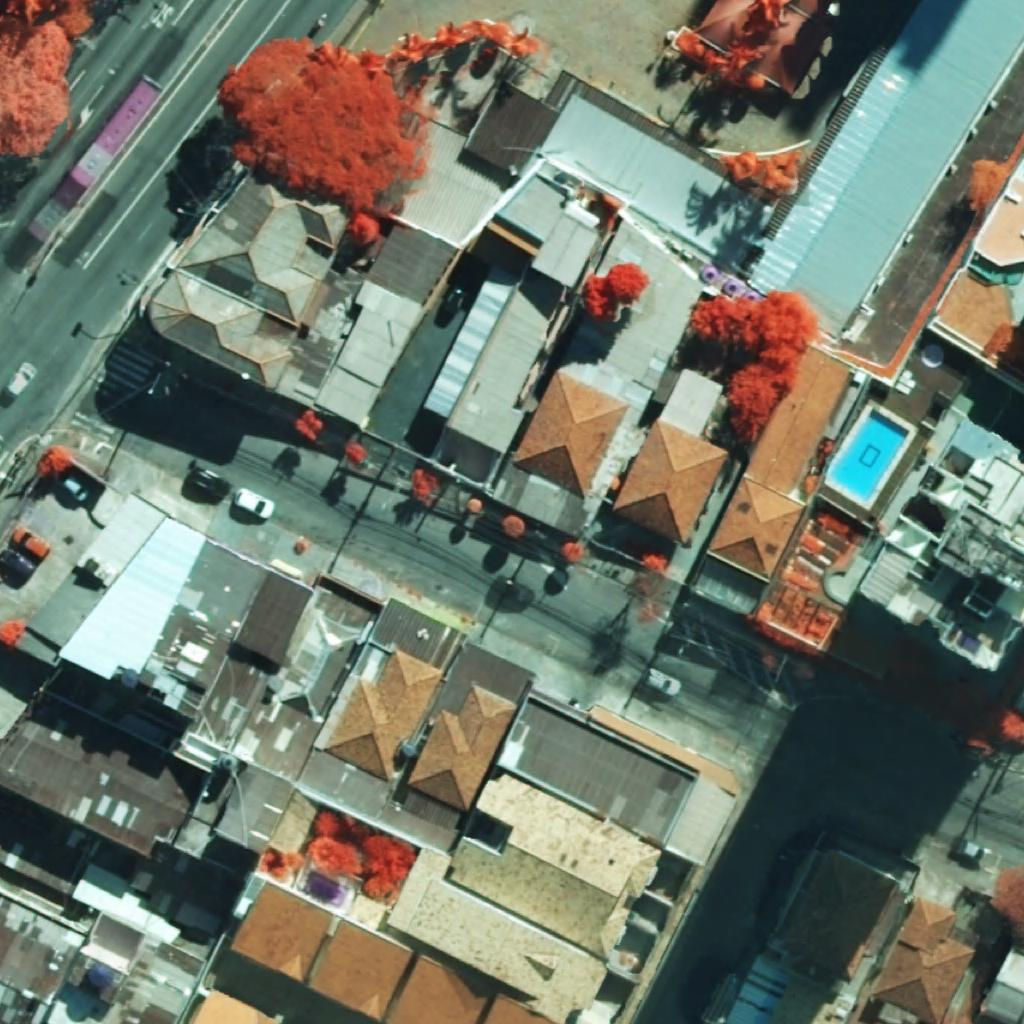pool: (829, 409, 909, 502)
